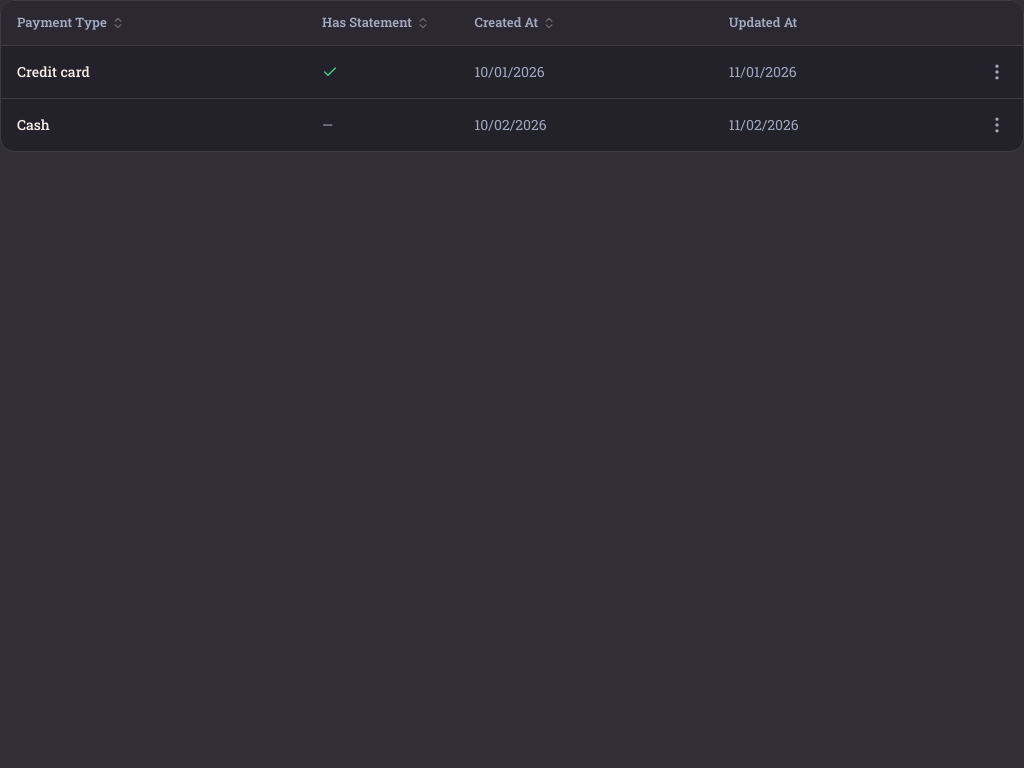
Scenario: PaymentTypeTable › opens the edit modal pre-filled with the row values
Click the button without text in the row of "Credit card".
click(997, 72)  # box [979,54,1015,90]
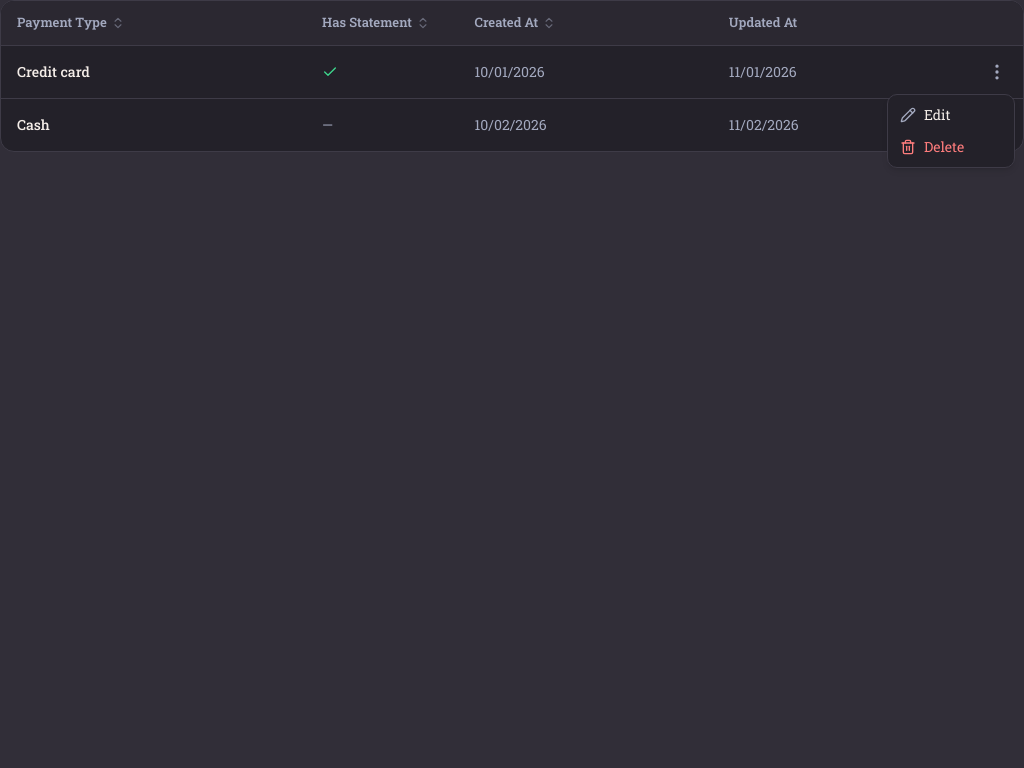
Click the menu item "Edit".
click(925, 114)  # box [900,105,951,124]
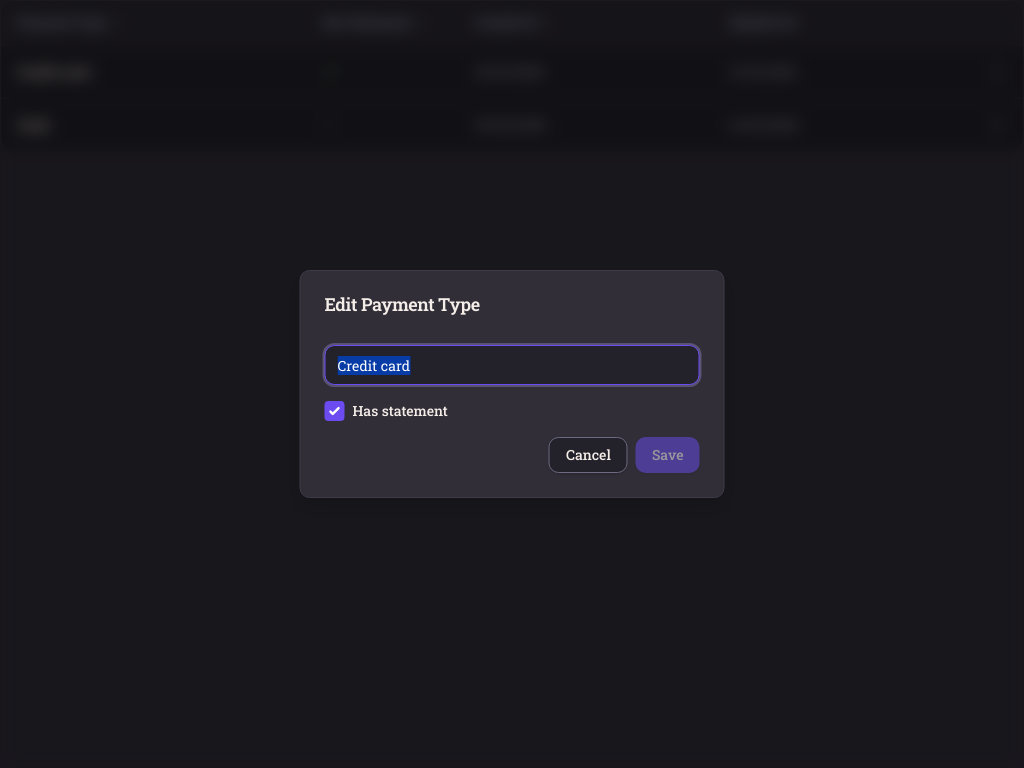
Now the field with placeholder "Payment type description" holds "Credit card", box [338,346,686,384]
Now the checkbox labelled "Has statement" is checked, box [324,401,448,421]
